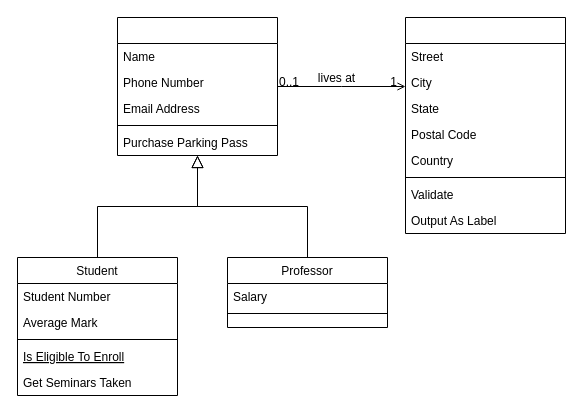
The diagram is 583 pixels wide and 416 high, and some of its shapes have lost their labels. Each missing label, with the box of its shape:
Address: (404, 16, 566, 234)
Users: (116, 16, 278, 156)
